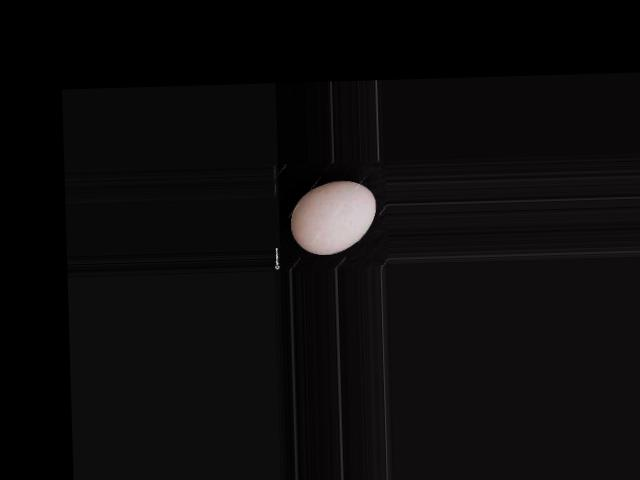egg: (289, 179, 376, 255)
